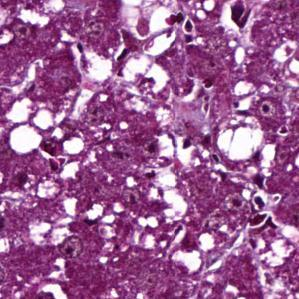ballooning: (214, 112, 264, 161)
